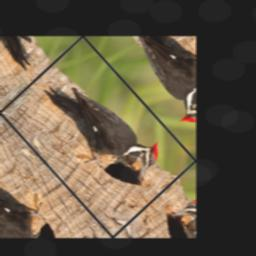Woodpecker: (29, 55, 170, 201)
